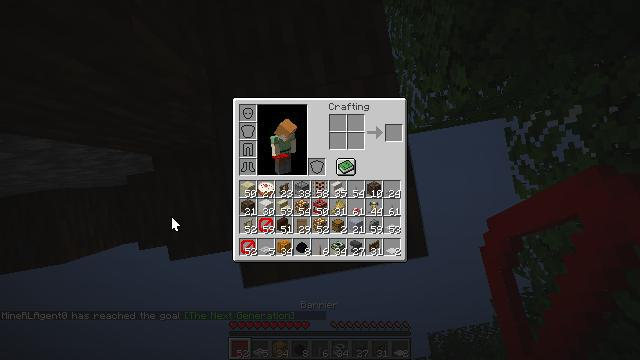cursor: (216, 171, 232, 181)
